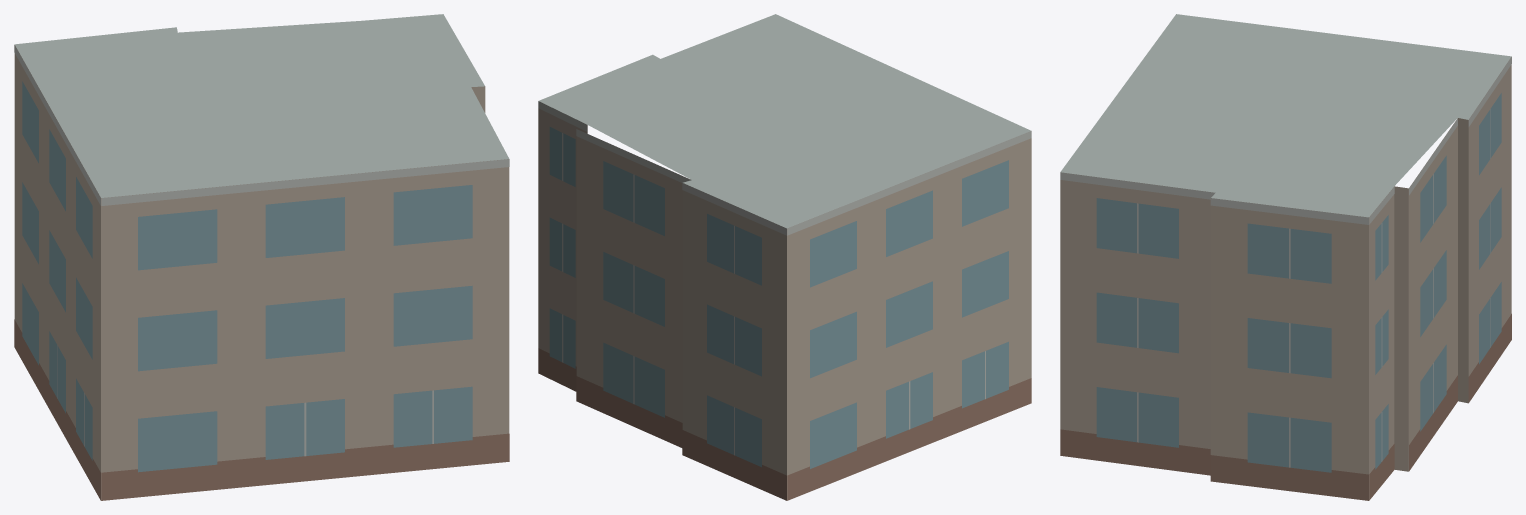
Rendered from survey-upis-32508818.glb.
3 renders of one model, left to right at view 1: azimuth 30°, elevation 25°; view 2: azimuth 150°, elevation 25°; view 3: azimuth 270°, elevation 25°, orthographic. The views are drawn at different scales.
Visible parts, largest first — view 1: survey-upis-32508818.tmp; view 2: survey-upis-32508818.tmp; view 3: survey-upis-32508818.tmp.
Boxes of the visible parts, x1,y1,x2,y2 form: survey-upis-32508818.tmp: [14, 14, 509, 500]; survey-upis-32508818.tmp: [538, 14, 1031, 500]; survey-upis-32508818.tmp: [1060, 14, 1511, 500].
Bounding box in the file's own units: 14.1 × 9.15 × 13.22.
